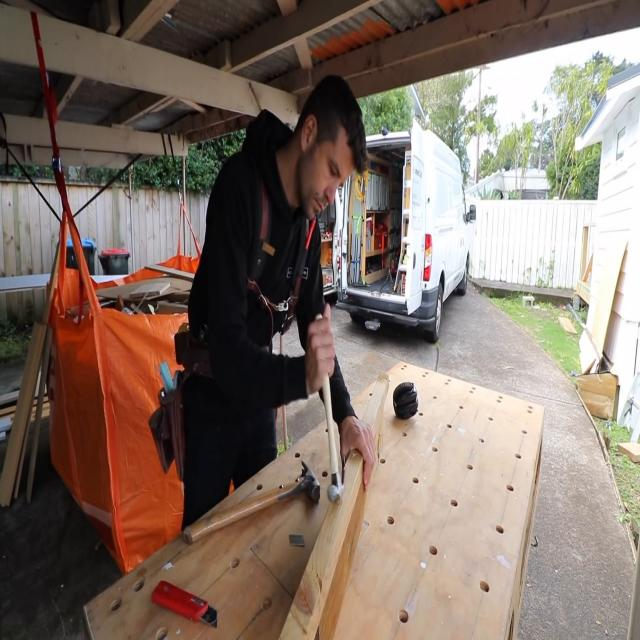hammer: (184, 460, 320, 543), (315, 315, 346, 502)
